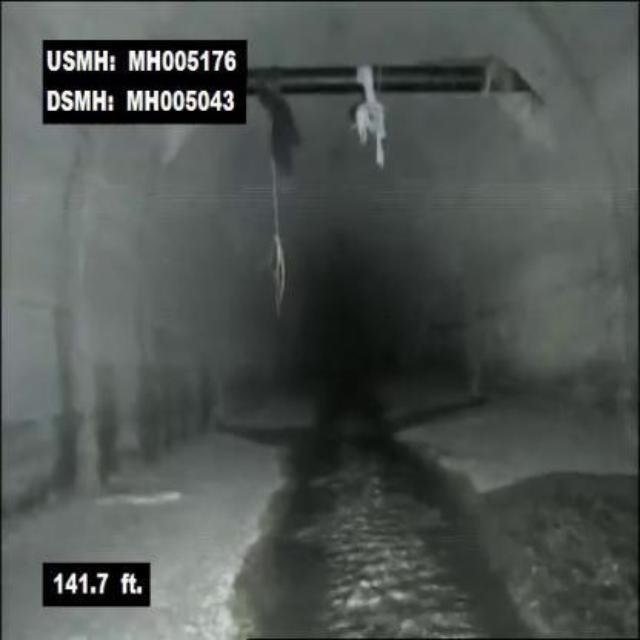Utility intrusion: (251, 45, 549, 111)
